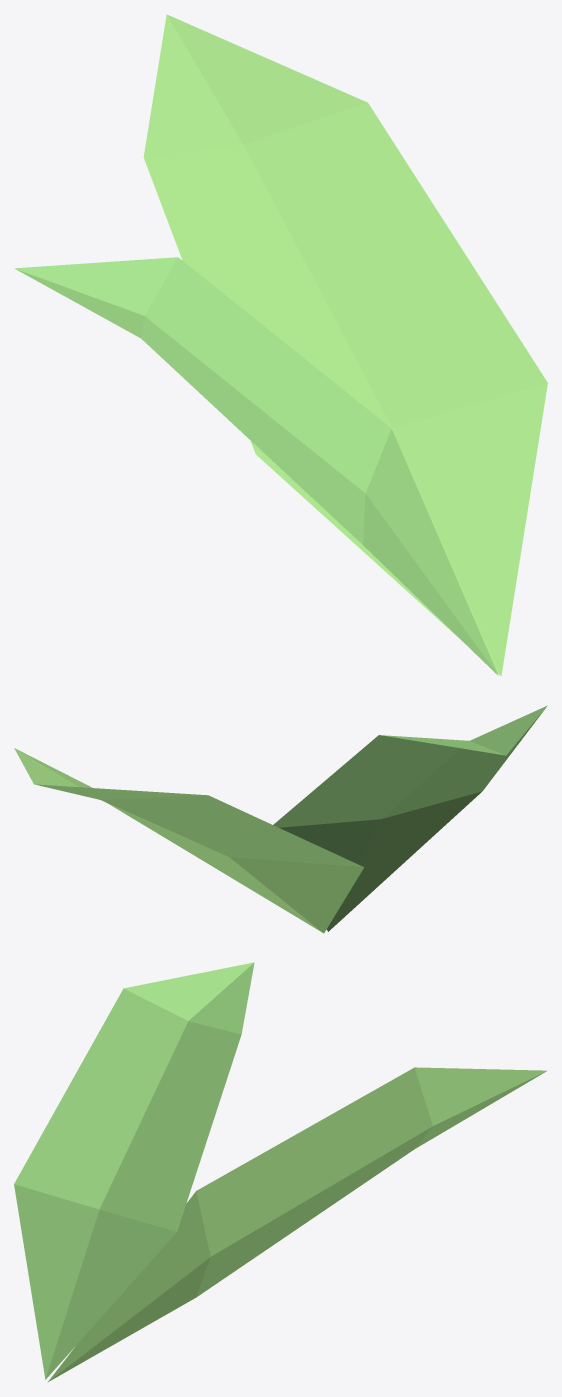
Rendered from Plant_k_OneS_01.fbx.
3 views of the same model, one above another, from view 1: azimuth 30°, elevation 25°; view 2: azimuth 150°, elevation 25°; view 3: azimuth 270°, elevation 25° (orthographic). The views are drawn at different scales.
Parts seen in each view (by area): view 1: Plant_k_OneS_01; view 2: Plant_k_OneS_01; view 3: Plant_k_OneS_01.
Boxes of the visible parts, x1,y1,x2,y2 form: Plant_k_OneS_01: [14, 14, 547, 675]; Plant_k_OneS_01: [14, 705, 547, 933]; Plant_k_OneS_01: [14, 962, 547, 1382].
Bounding box in the file's own units: 17.11 × 13.79 × 21.38.
